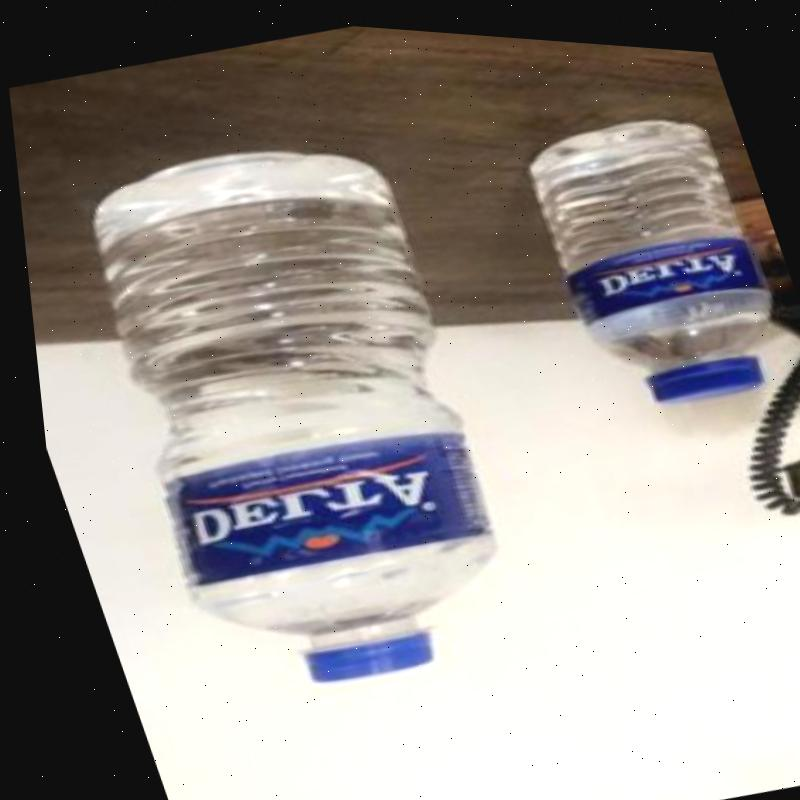botella: (29, 99, 545, 723), (511, 85, 797, 416)
